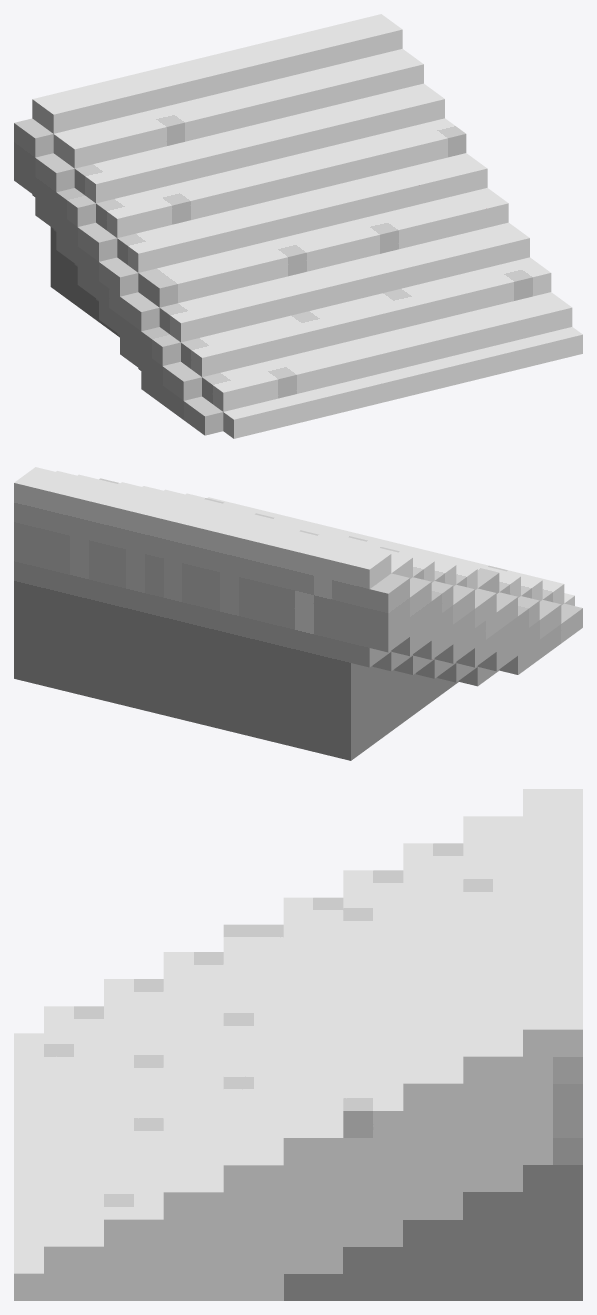
Rendered from half_top_ramp_bot_left.glb.
The picture shows the model from 3 angles, top to bottom: view 1: azimuth 30°, elevation 25°; view 2: azimuth 150°, elevation 25°; view 3: azimuth 270°, elevation 25°; orthographic projection. The views are drawn at different scales.
Visible parts, largest first — view 1: half_top_ramp_bot_left; view 2: half_top_ramp_bot_left; view 3: half_top_ramp_bot_left.
Part boxes in pixels (<box>): half_top_ramp_bot_left: <box>14,14,582,438</box>; half_top_ramp_bot_left: <box>14,467,582,760</box>; half_top_ramp_bot_left: <box>14,789,582,1300</box>.
Bounding box in the file's own units: 2 × 1 × 1.9.
1 material, 1 textured.
